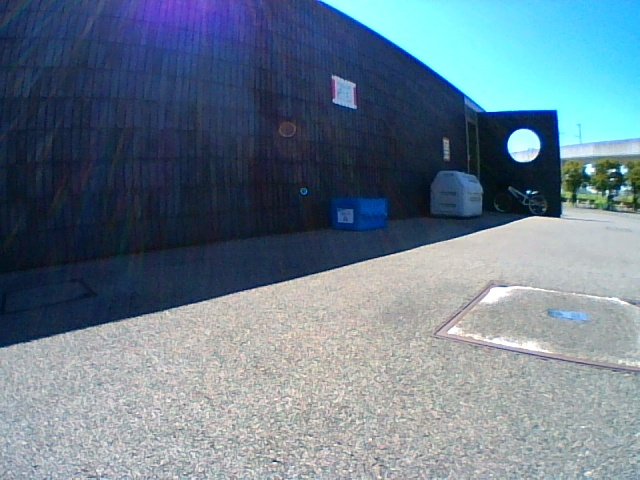blue_box: (332, 198, 387, 230)
tag: (338, 210, 351, 223)
